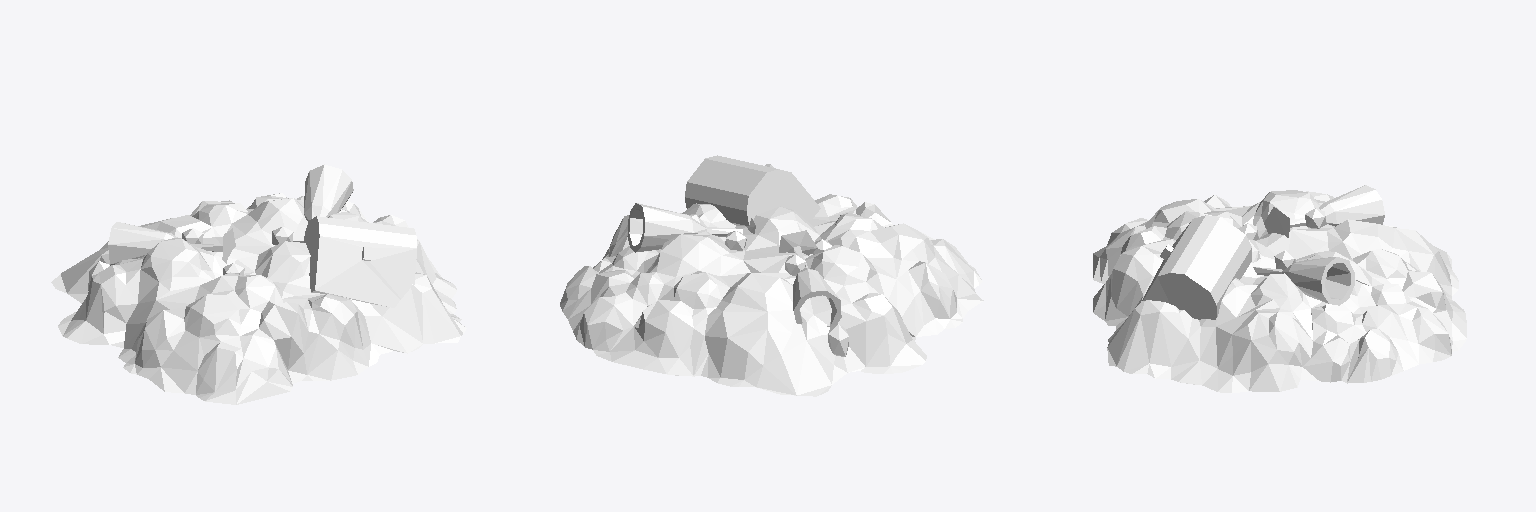
Rendered from treasure_pile.obj.
3 renders of one model, left to right at view 1: azimuth 30°, elevation 25°; view 2: azimuth 150°, elevation 25°; view 3: azimuth 270°, elevation 25°, orthographic.
Parts seen in each view (by area): view 1: TreasurePile.001_Plane.001; view 2: TreasurePile.001_Plane.001; view 3: TreasurePile.001_Plane.001.
Part boxes in pixels (x1,y1,x2,y2): TreasurePile.001_Plane.001: (51, 164, 466, 404); TreasurePile.001_Plane.001: (560, 155, 983, 396); TreasurePile.001_Plane.001: (1093, 185, 1466, 393).
Size of the model in its own units: 1.88 by 0.5589 by 1.75.